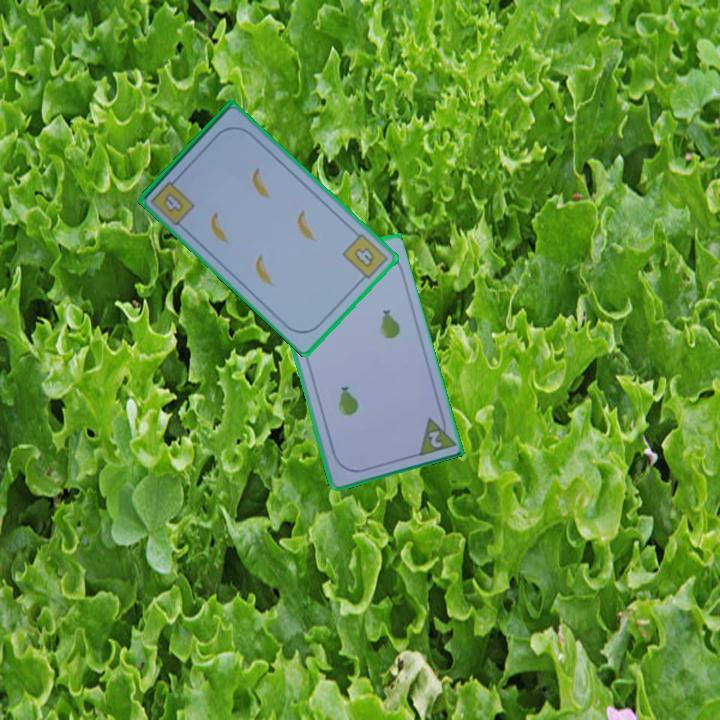2p: (413, 409, 457, 459)
4b: (339, 229, 391, 286), (160, 189, 187, 215)
